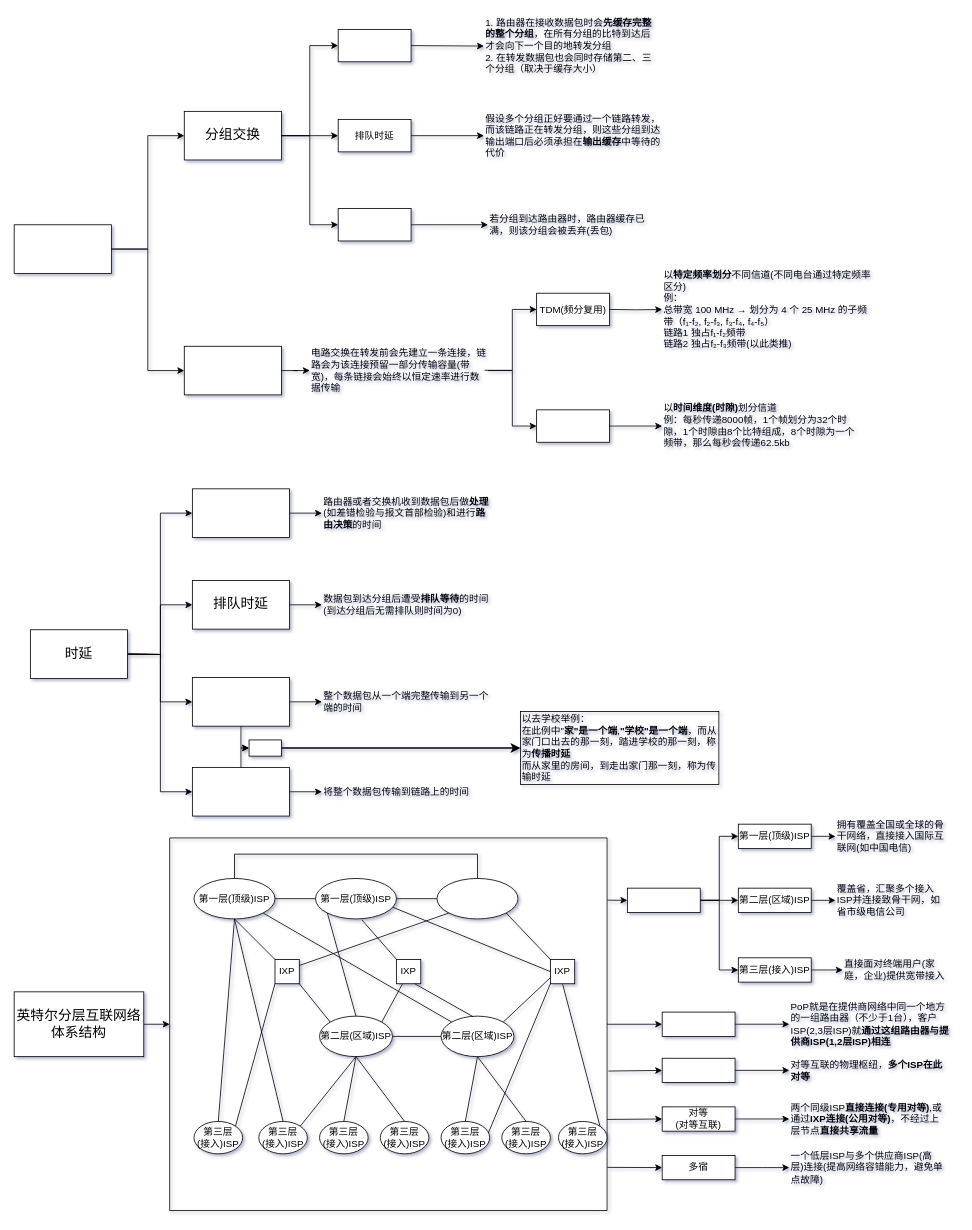
This 972x1230 diagram has some shape labels left out. The shapes that lost their labels are listed below. From the top down, each one's centre as x and y in pixels, then its label:
At point (374, 45): "存储转发传输".
At point (374, 224): "分组丢失".
At point (62, 248): "路由器数据报文交换".
At point (232, 370): "电路交换".
At point (573, 425): "FDM(时分复用)".
At point (241, 512): "处理时延".
At point (241, 701): "传输时延".
At point (264, 747): "区别".
At point (241, 791): "传播时延".
At point (477, 898): "内容提供商(ICP)(如谷歌，B站 )".
At point (663, 899): "ISP(互联网服务提供商)".
At point (698, 1023): "pop (存在点)".
At point (698, 1070): "IXP (互联网交换点 )".
